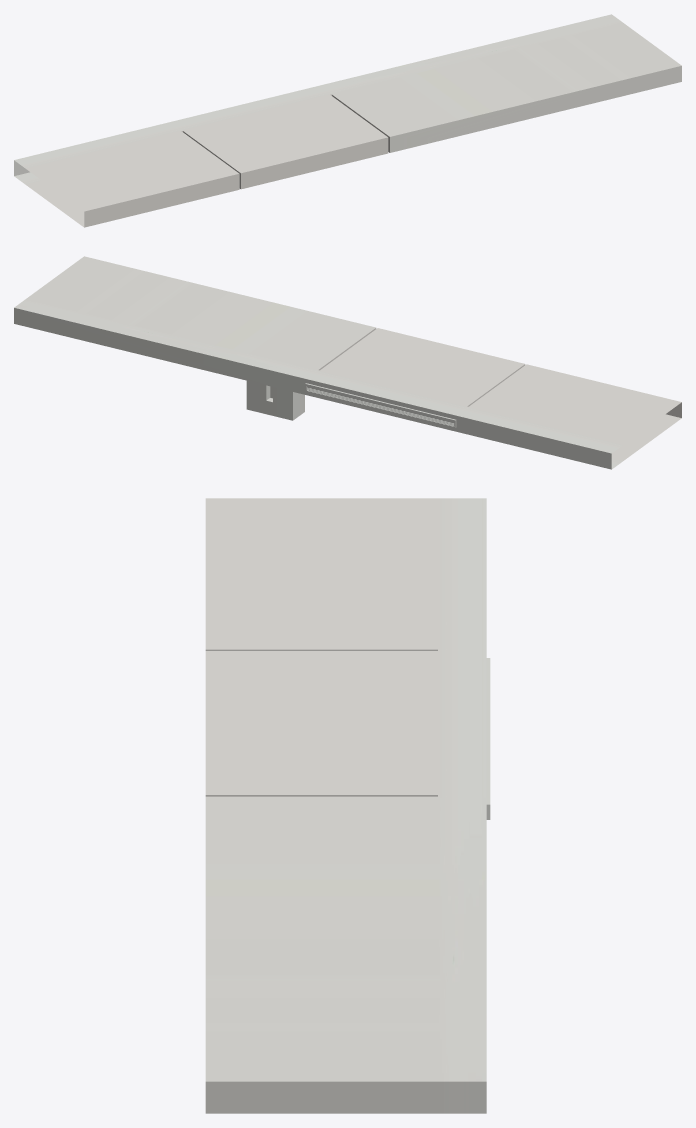
The model's file is tetepanno1.fbx.
3 renders of one model, top to bottom at view 1: azimuth 30°, elevation 25°; view 2: azimuth 150°, elevation 25°; view 3: azimuth 270°, elevation 25°, orthographic. The views are drawn at different scales.
Parts seen in each view (by area): view 1: Cube.015; view 2: Cube.015; view 3: Cube.015.
Part boxes in pixels (<box>): Cube.015: <box>14,14,681,227</box>; Cube.015: <box>14,256,681,469</box>; Cube.015: <box>205,498,490,1113</box>.
Size of the model in its own units: 11938 by 859 by 2460.
Materials: 1 (1 with a texture image).
